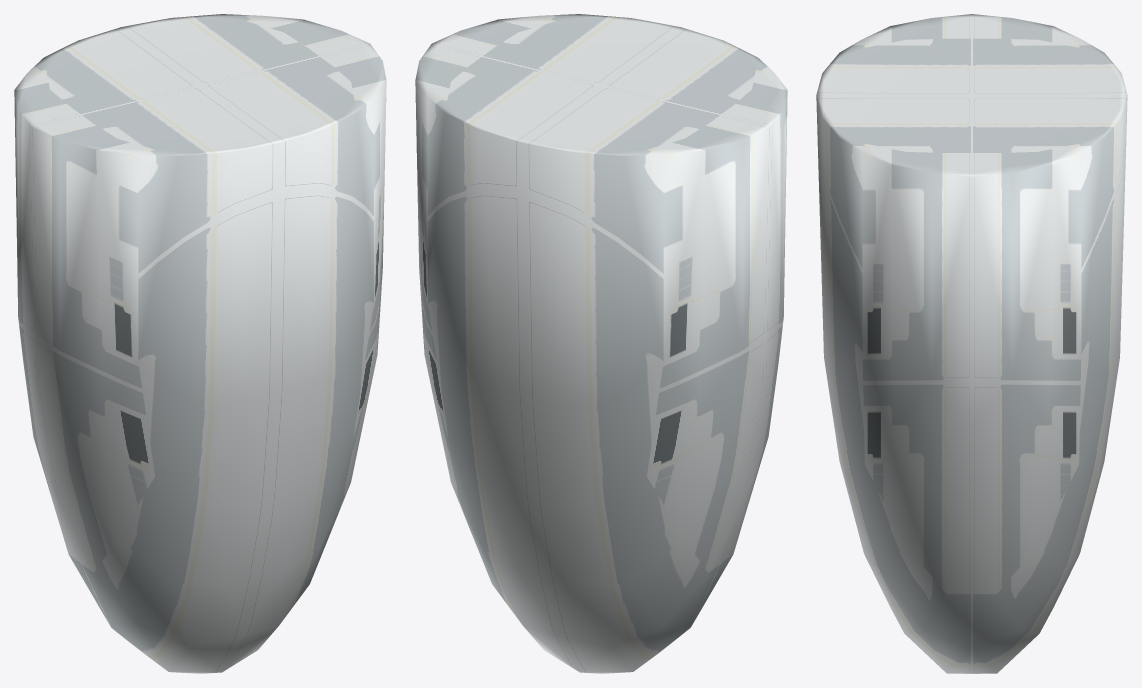
Rendered from BodyInUse.fbx.
3 renders of one model, left to right at view 1: azimuth 30°, elevation 25°; view 2: azimuth 150°, elevation 25°; view 3: azimuth 270°, elevation 25°, orthographic.
Parts seen in each view (by area): view 1: Body; view 2: Body; view 3: Body.
Boxes of the visible parts, x1,y1,x2,y2 form: Body: (14,14,386,673); Body: (415,14,787,673); Body: (816,14,1127,673).
Size of the model in its own units: 1.02 by 0.82 by 1.68.
